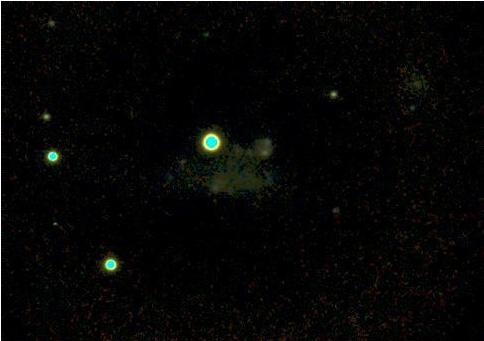star: (164, 142, 194, 172)
